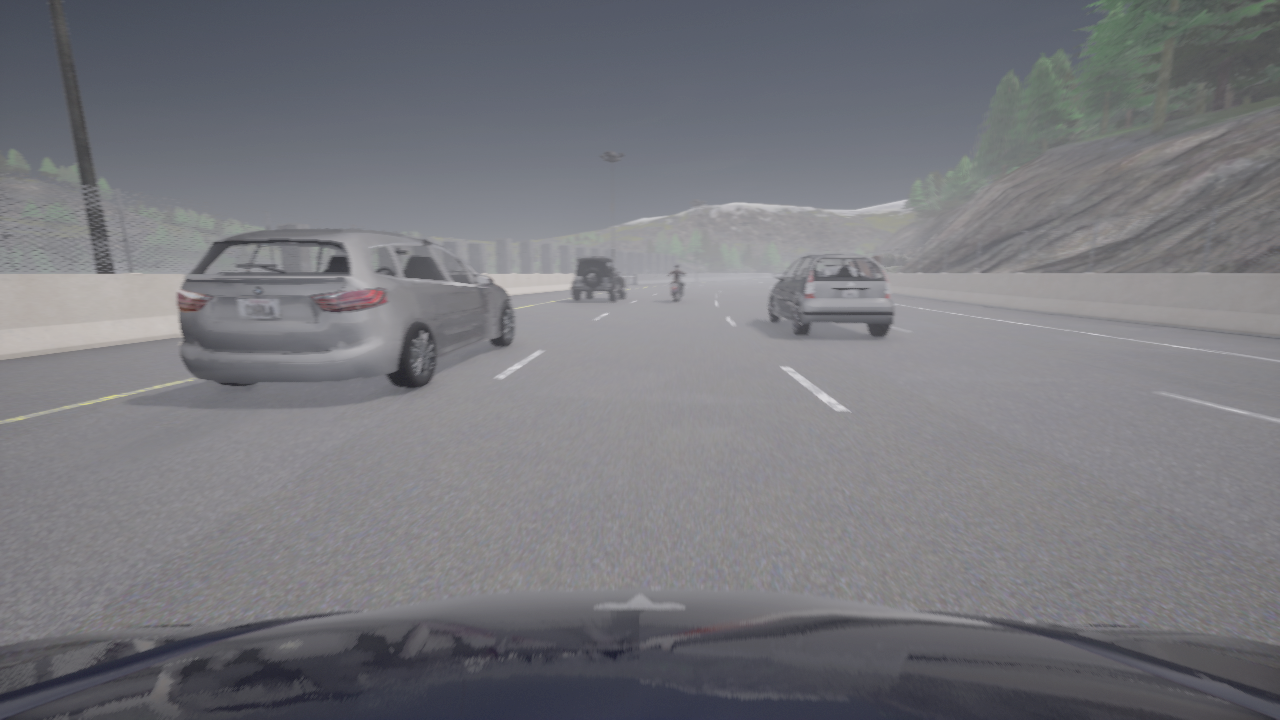cyclist: (0, 588, 1279, 719), (176, 230, 515, 388), (767, 253, 895, 336), (572, 257, 626, 301), (671, 275, 683, 302)
